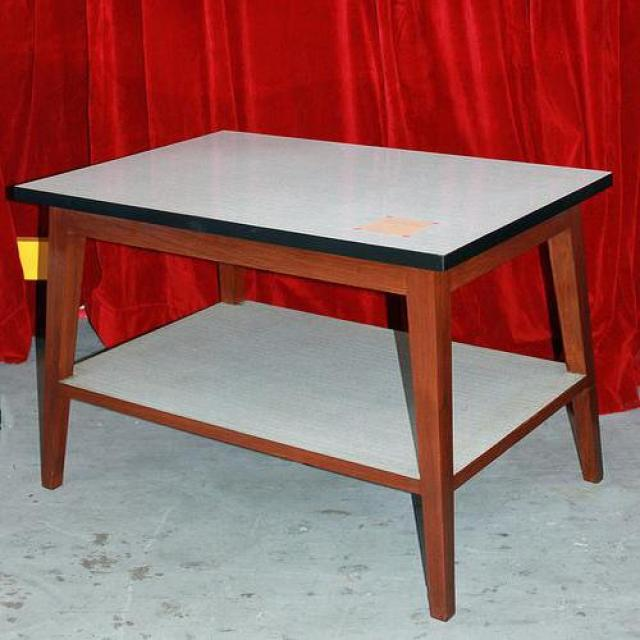table: (9, 131, 616, 625)
